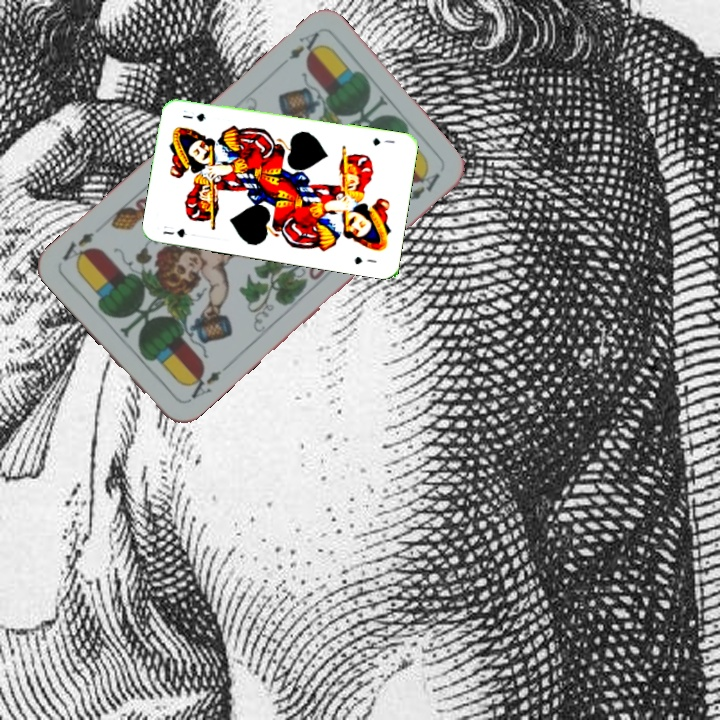EA: (181, 365, 224, 406), (284, 27, 325, 63)
GU: (159, 222, 189, 240), (369, 134, 397, 148)
